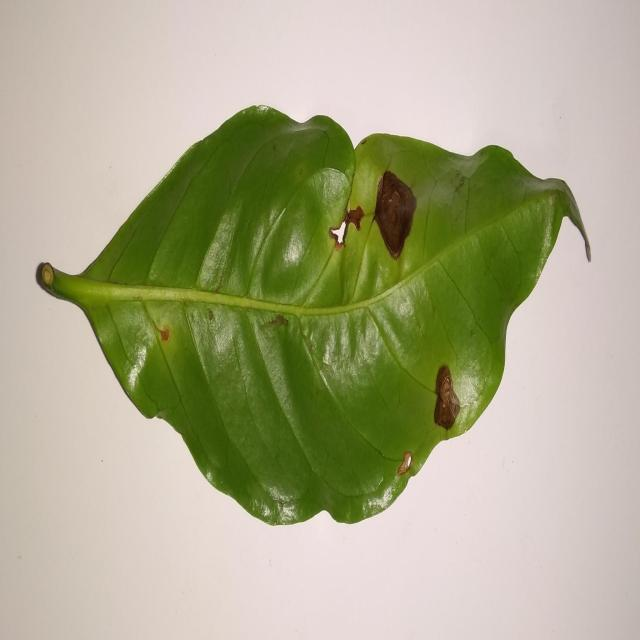phoma: (373, 170, 417, 259), (434, 365, 460, 429)
